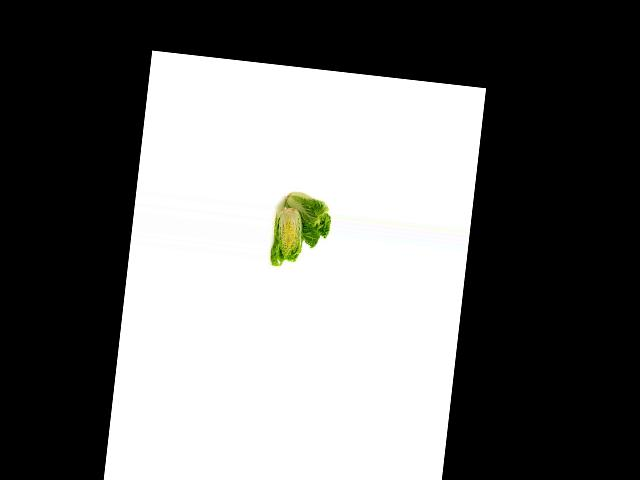lettuce: (276, 189, 336, 253)
